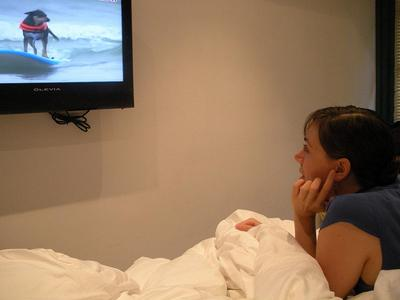person: (237, 104, 400, 298)
